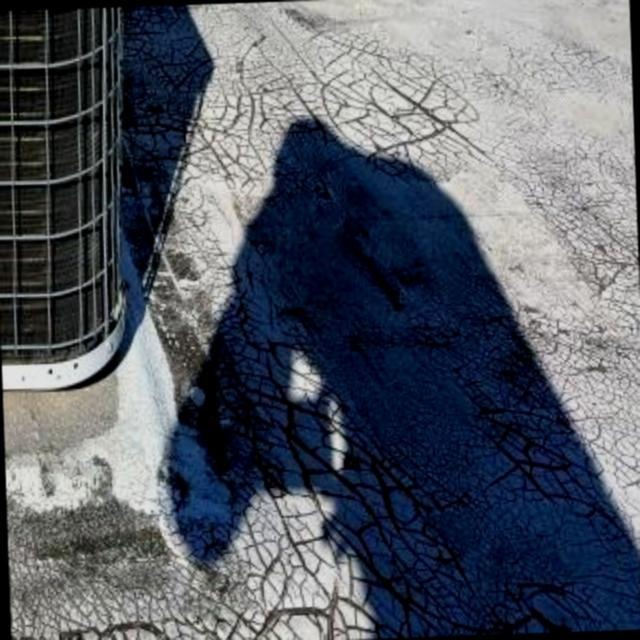SPLIT-SYSTEM: (0, 6, 153, 405)
